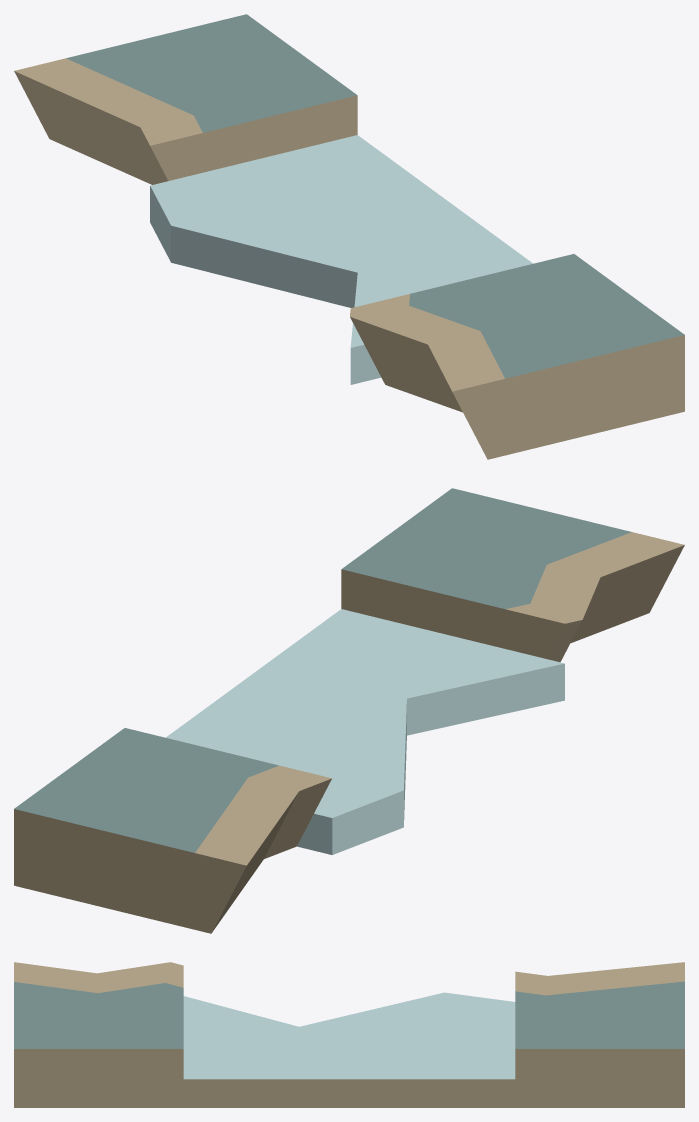
Rendered from Nature River 7.fbx.
3 renders of one model, top to bottom at view 1: azimuth 30°, elevation 25°; view 2: azimuth 150°, elevation 25°; view 3: azimuth 270°, elevation 25°, orthographic. The views are drawn at different scales.
Visible parts, largest first — view 1: Nature River 7; view 2: Nature River 7; view 3: Nature River 7.
Boxes of the visible parts, bbox=[...] form: Nature River 7: bbox=[14, 14, 684, 459]; Nature River 7: bbox=[14, 488, 684, 933]; Nature River 7: bbox=[14, 962, 684, 1107].
Size of the model in its own units: 0.92 by 0.29 by 3.
